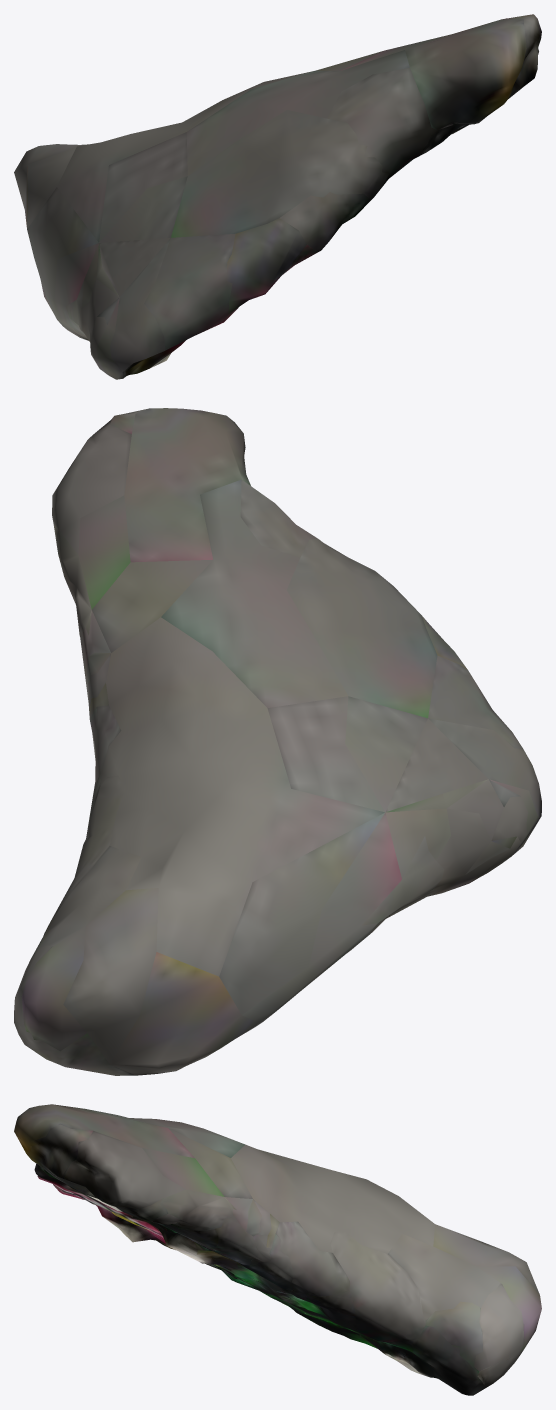
File: hall.glb
The picture shows the model from 3 angles, top to bottom: view 1: azimuth 30°, elevation 25°; view 2: azimuth 150°, elevation 25°; view 3: azimuth 270°, elevation 25°; orthographic projection. The views are drawn at different scales.
Size of the model in its own units: 0.413 by 0.3586 by 0.5016.
Materials: 1 (1 with a texture image).
